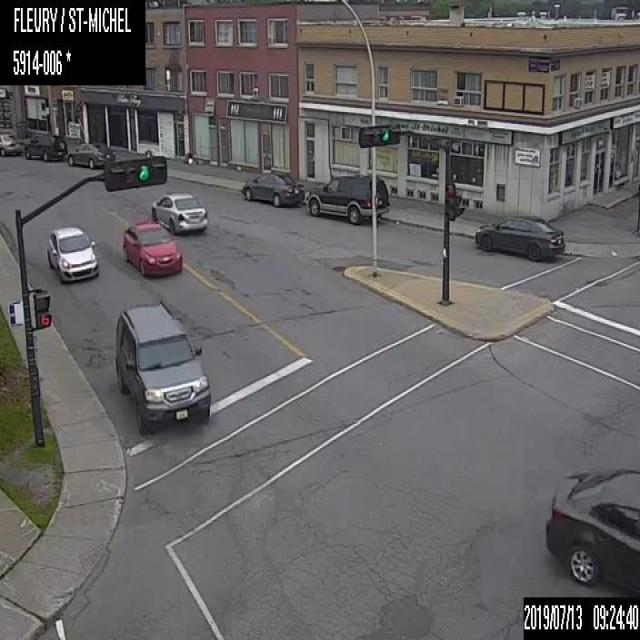vehicle: (114, 300, 210, 435), (544, 465, 639, 595), (305, 165, 390, 226), (474, 210, 564, 262), (121, 223, 183, 276), (46, 221, 98, 283), (149, 187, 209, 234), (239, 168, 305, 210), (65, 138, 115, 168), (22, 130, 64, 160), (0, 130, 21, 158)
